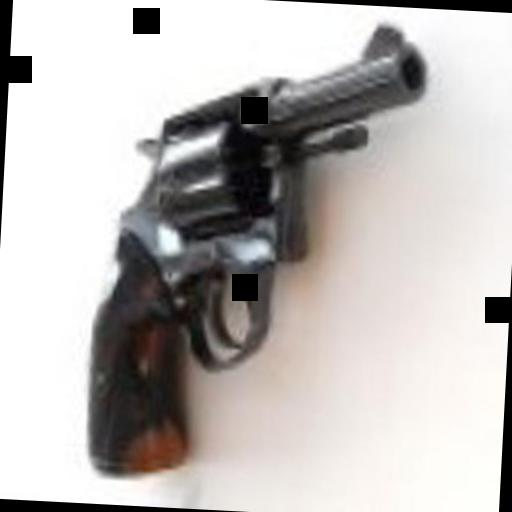Handgun: (70, 2, 428, 489)
